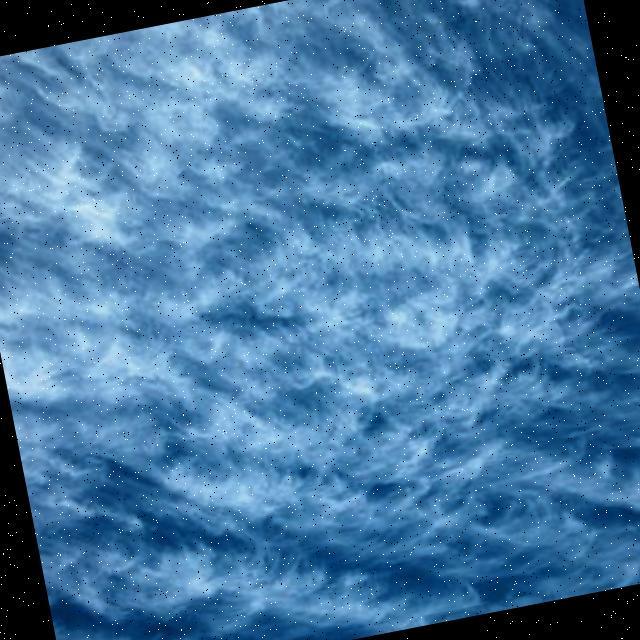Cc: (1, 17, 640, 484)
